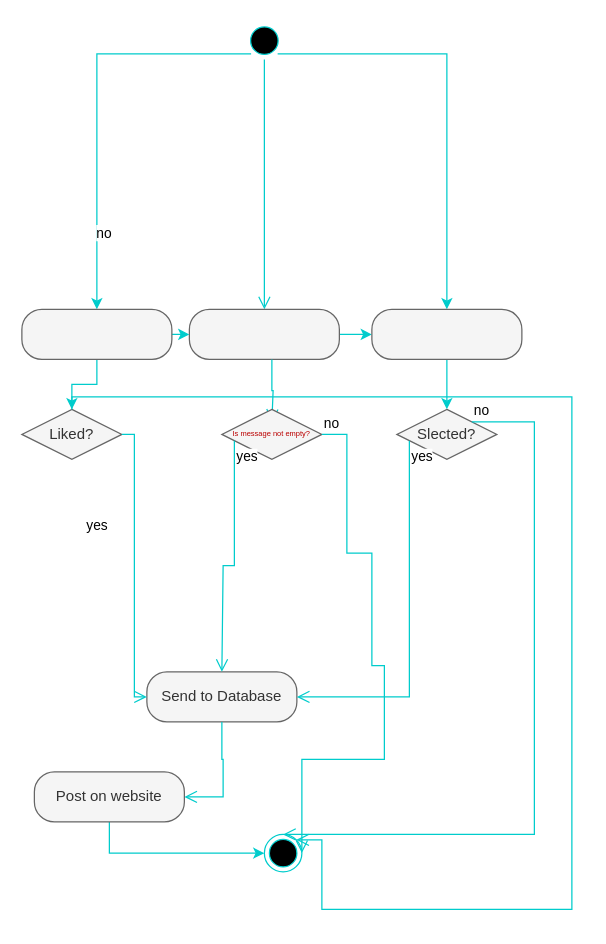
The diagram is 606 pixels wide and 944 high, and some of its shapes have lost their labels. Each missing label, with the centre of its shape:
Like Chirp: the point at 96,333
Profile Picture: the point at 446,333
Send Chirp: the point at 263,333
